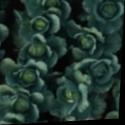cabbage: (98, 0, 119, 19), (63, 87, 84, 105), (17, 68, 38, 83), (10, 97, 31, 111), (80, 31, 97, 48), (26, 40, 43, 56), (29, 17, 49, 30), (93, 60, 107, 74), (41, 0, 60, 9)
